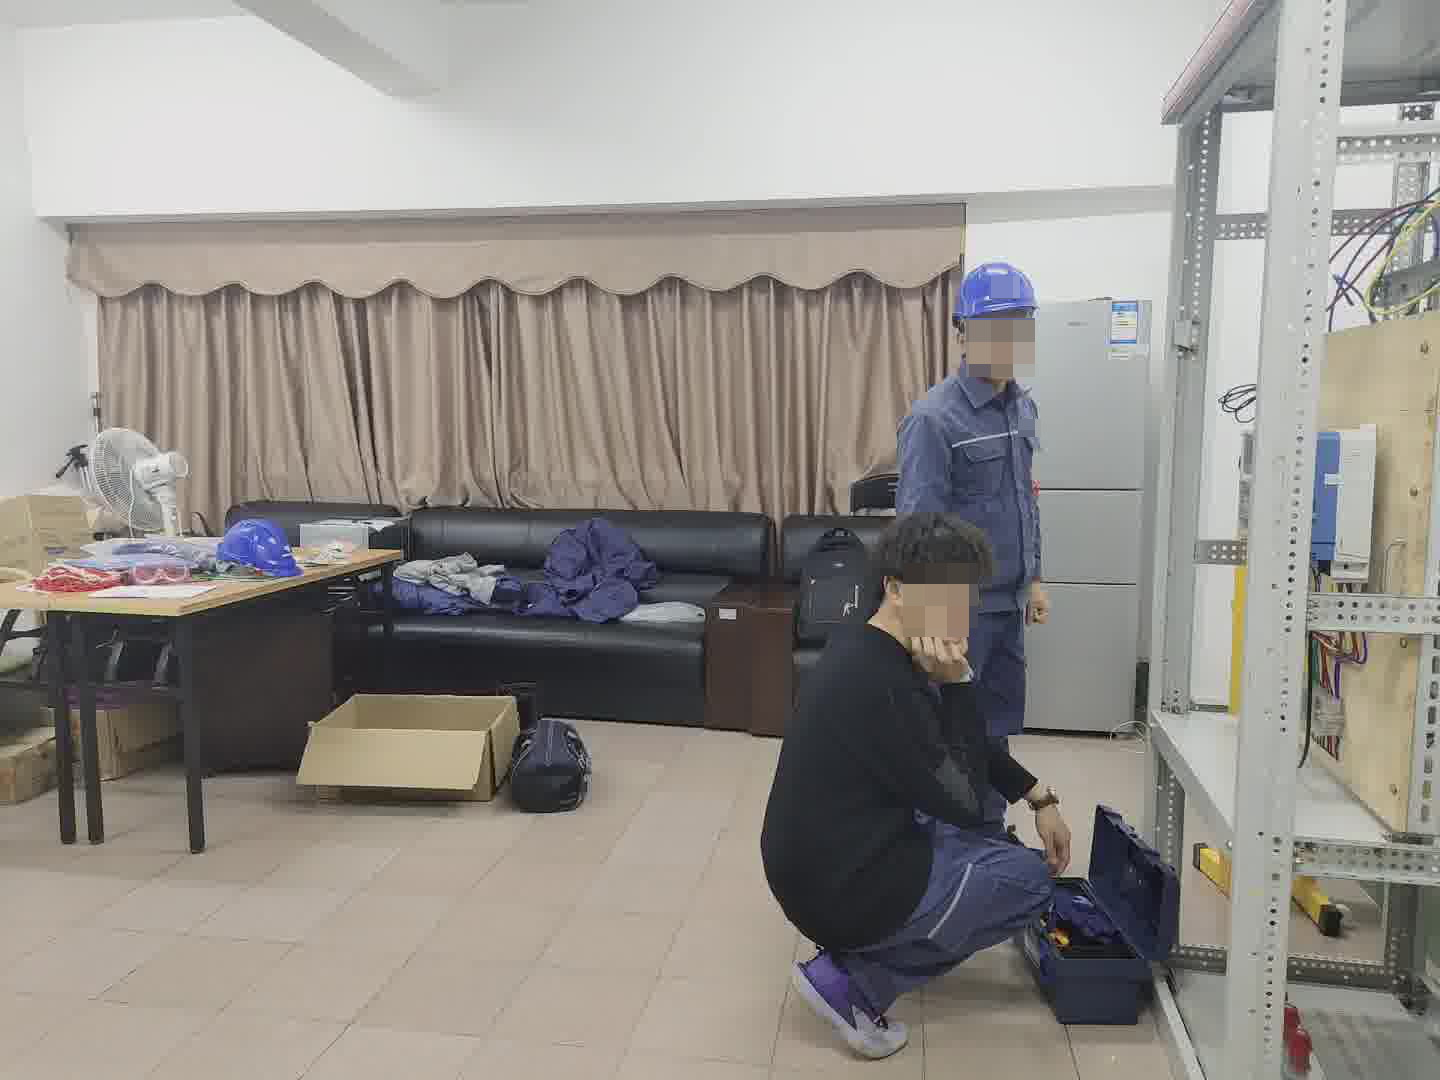downsuit: (870, 817, 1057, 1017), (968, 615, 1035, 723)
halt: (949, 259, 1042, 379)
hand: (1031, 785, 1079, 869), (911, 634, 974, 688), (1018, 580, 1051, 631)
noear: (871, 568, 932, 629)
person: (758, 503, 1074, 1066), (880, 258, 1068, 739)
unhalt: (868, 524, 993, 650)
upcloth: (757, 621, 942, 934)
upsuit: (891, 365, 1042, 586)
